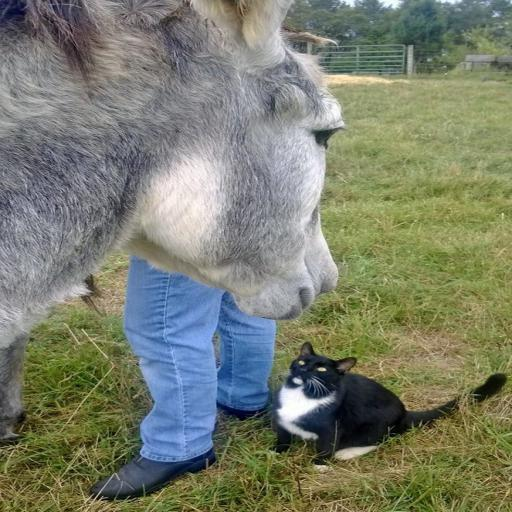horse: (0, 0, 360, 443)
